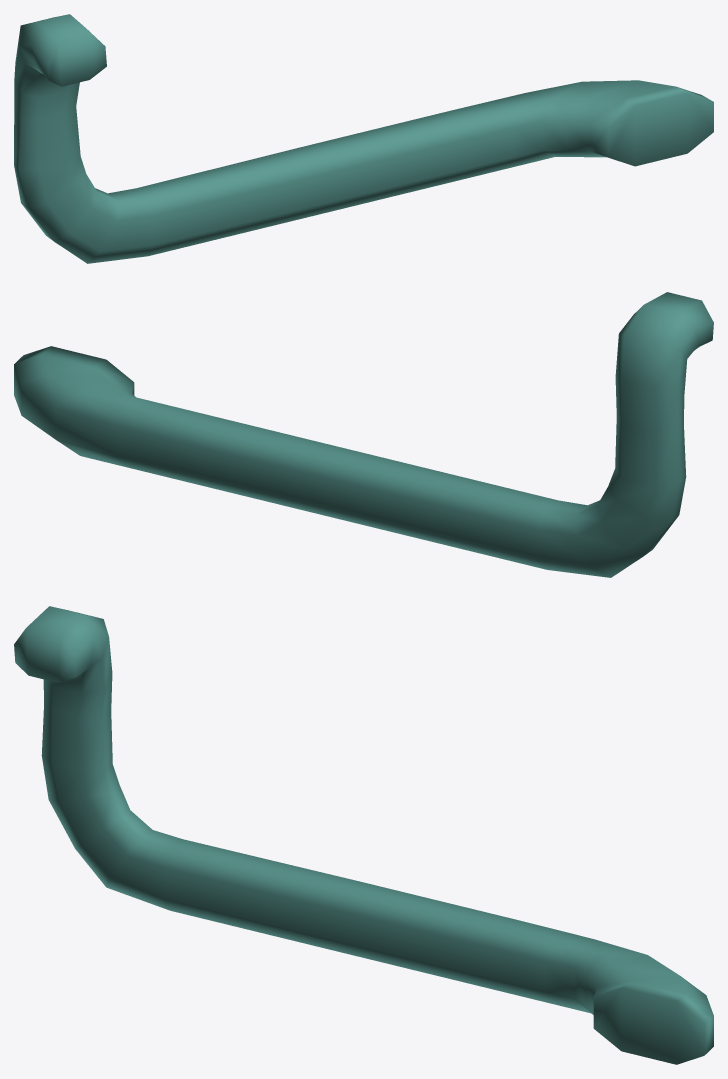
Rendered from Container_Waterpipe_3.fbx.
3 views of the same model, one above another, from view 1: azimuth 30°, elevation 25°; view 2: azimuth 150°, elevation 25°; view 3: azimuth 330°, elevation 25° (orthographic). The views are drawn at different scales.
Parts seen in each view (by area): view 1: pasted__pCube37; view 2: pasted__pCube37; view 3: pasted__pCube37.
Boxes of the visible parts, x1,y1,x2,y2 form: pasted__pCube37: (14,14,713,263); pasted__pCube37: (14,292,713,577); pasted__pCube37: (14,606,713,1064).
Size of the model in its own units: 0.8348 by 0.318 by 0.1064.
